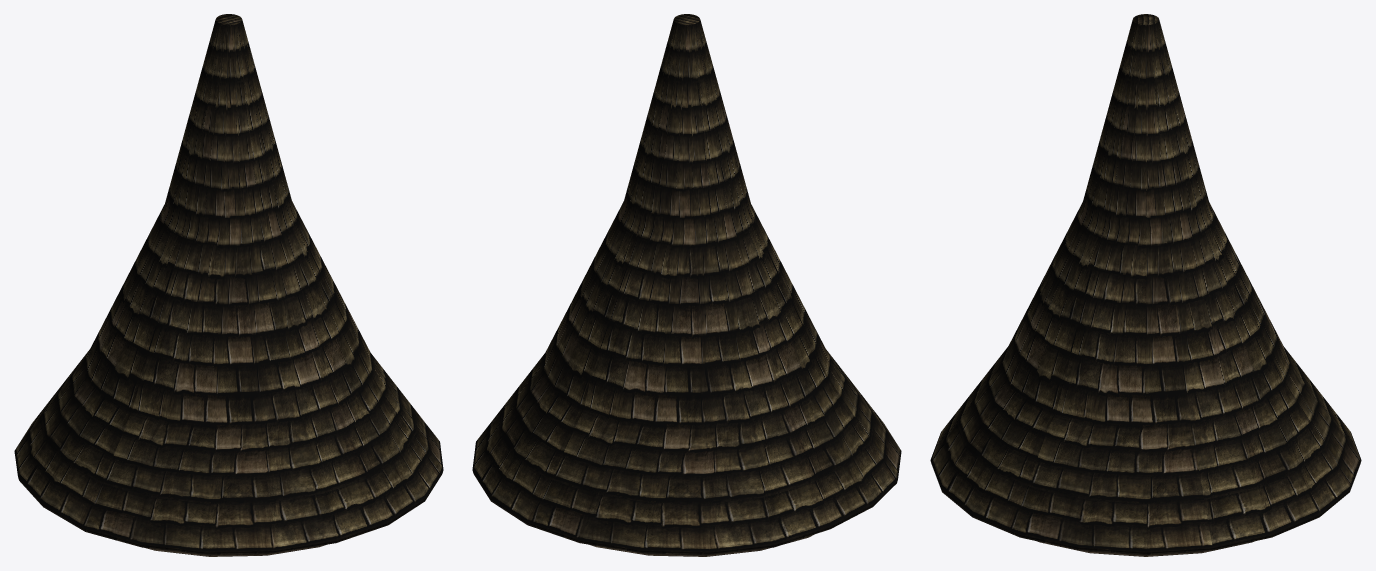
Rendered from Roof_Round_03c.fbx.
3 views of the same model, side by side, from view 1: azimuth 30°, elevation 25°; view 2: azimuth 150°, elevation 25°; view 3: azimuth 270°, elevation 25° (orthographic).
Visible parts, largest first — view 1: Roof_Round_03c; view 2: Roof_Round_03c; view 3: Roof_Round_03c.
Part boxes in pixels (x1,y1,x2,y2): Roof_Round_03c: (14,14,443,556); Roof_Round_03c: (472,14,901,556); Roof_Round_03c: (930,14,1361,556).
Size of the model in its own units: 8.19 by 9.65 by 8.19.
